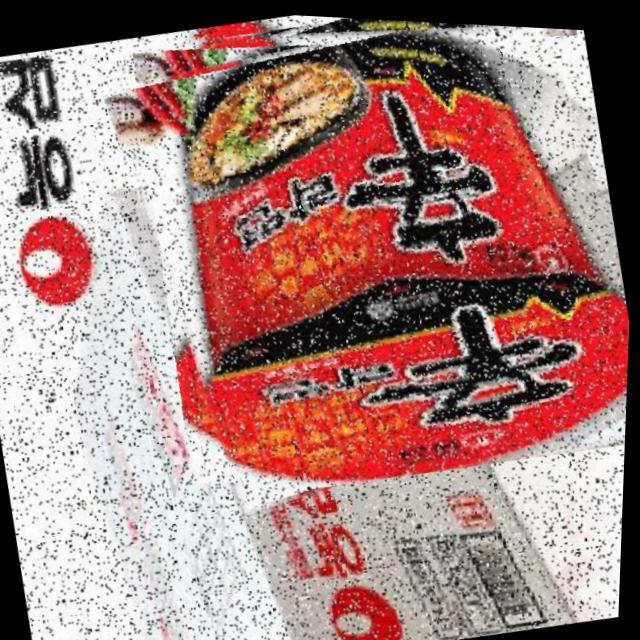Miscellaneous: (97, 5, 640, 522)
